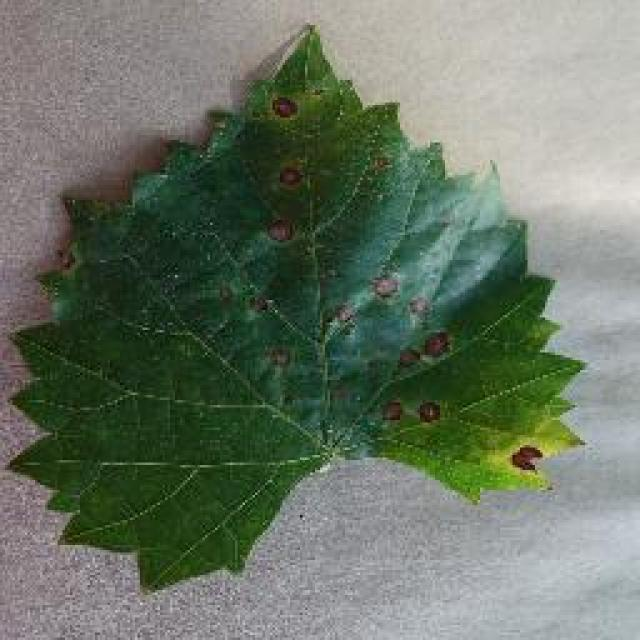Grape___Black_rot: (1, 25, 598, 600)
